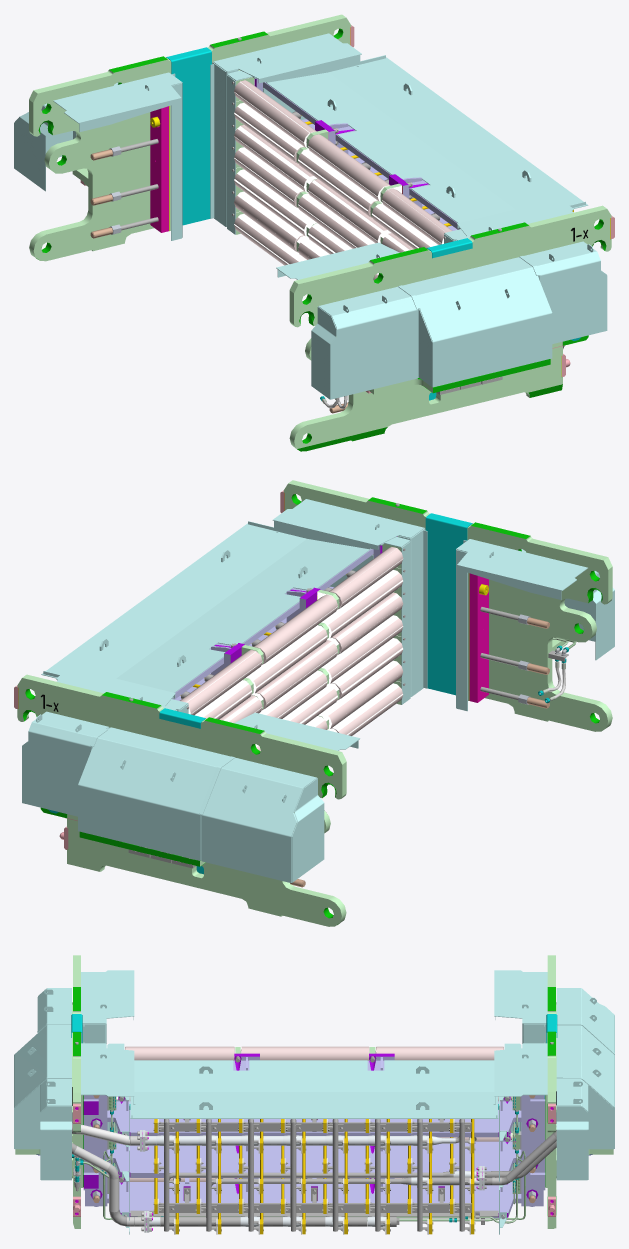
The model's file is SEGMENT_1_FIXED_SIDE_FRAME.glb.
3 renders of one model, top to bottom at view 1: azimuth 30°, elevation 25°; view 2: azimuth 150°, elevation 25°; view 3: azimuth 270°, elevation 25°, orthographic. The views are drawn at different scales.
Parts seen in each view (by area): view 1: Model, ROLLSET_2, ROLLSET_5, ROLLSET_4, ROLLSET_3, ROLLSET_6, ROLLSET_7; view 2: Model, ROLLSET_2, ROLLSET_5, ROLLSET_4, ROLLSET_3, ROLLSET_6, ROLLSET_7, ROLLER_1_2; view 3: Model, ROLLER_1_2.
Boxes of the visible parts, x1,y1,x2,y2 form: Model: (14, 14, 614, 451); ROLLSET_2: (234, 100, 437, 248); ROLLSET_5: (234, 169, 378, 274); ROLLSET_4: (234, 147, 374, 247); ROLLSET_3: (234, 126, 409, 251); ROLLSET_6: (236, 191, 329, 256); ROLLSET_7: (234, 214, 306, 264); Model: (14, 480, 614, 926); ROLLSET_2: (195, 567, 402, 718); ROLLSET_5: (255, 638, 402, 747); ROLLSET_4: (259, 615, 403, 717); ROLLSET_3: (224, 593, 401, 721); ROLLSET_6: (305, 660, 398, 730); ROLLSET_7: (328, 681, 402, 734); ROLLER_1_2: (254, 594, 333, 664); Model: (14, 955, 614, 1234); ROLLER_1_2: (241, 1046, 368, 1052).
Size of the model in its own units: 2.53 by 1.3 by 4.44.
